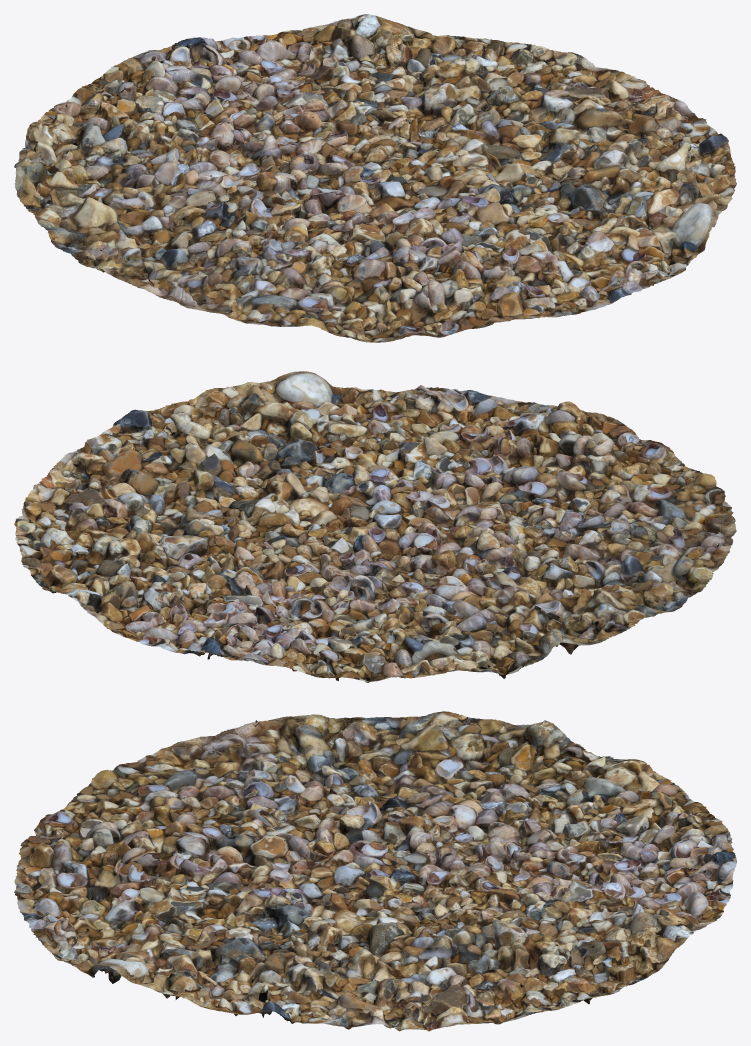
Rendered from shells_stones.glb.
3 views of the same model, one above another, from view 1: azimuth 30°, elevation 25°; view 2: azimuth 150°, elevation 25°; view 3: azimuth 270°, elevation 25° (orthographic).
Visible parts, largest first — view 1: Model; view 2: Model; view 3: Model.
Boxes of the visible parts, x1,y1,x2,y2 form: Model: (14,14,736,342); Model: (14,371,736,682); Model: (14,711,736,1031).
Bounding box in the file's own units: 14.26 × 1.06 × 14.27.
Materials: 1 (1 with a texture image).
